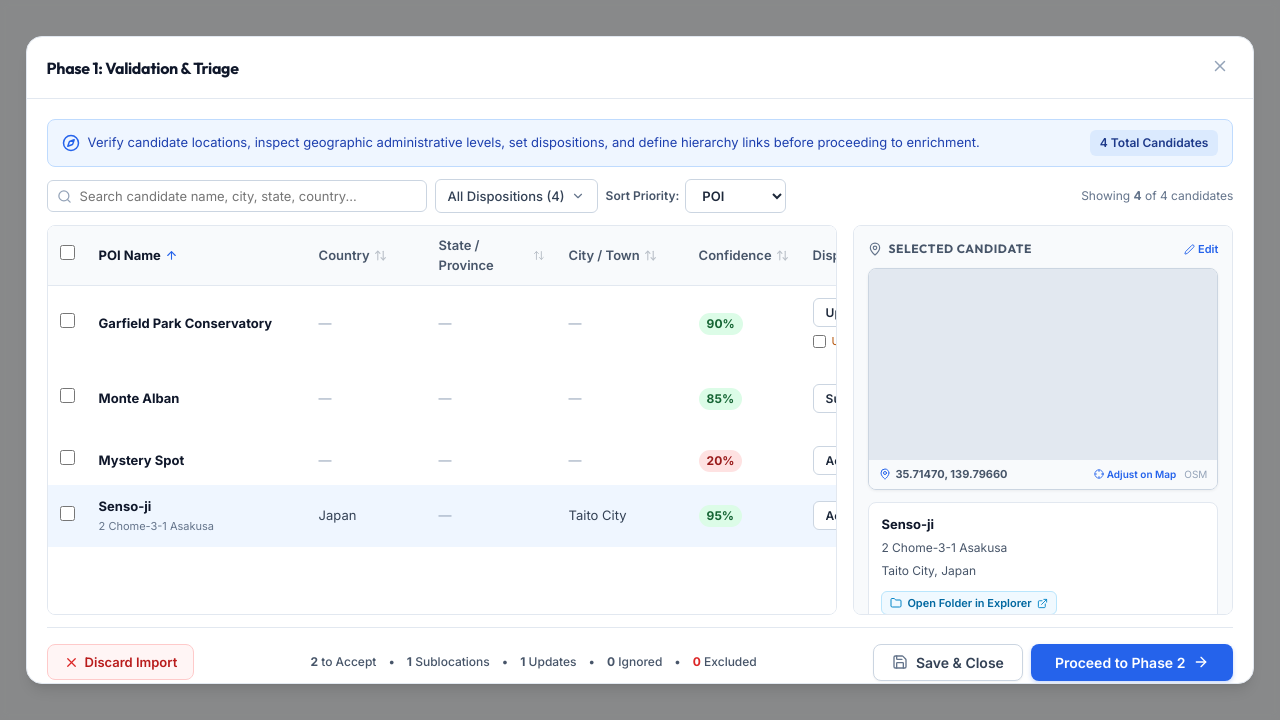
CSVTriageModal (Phase 1) › supports Select All visible candidates checkbox in table header
expect the text "Senso-ji" in the row of "95" is shown: met, box [99,498,151,514]
Note: Select all
Click the checkbox with test id "select-all-candidates-checkbox" at (67, 253), box [60,245,75,260]
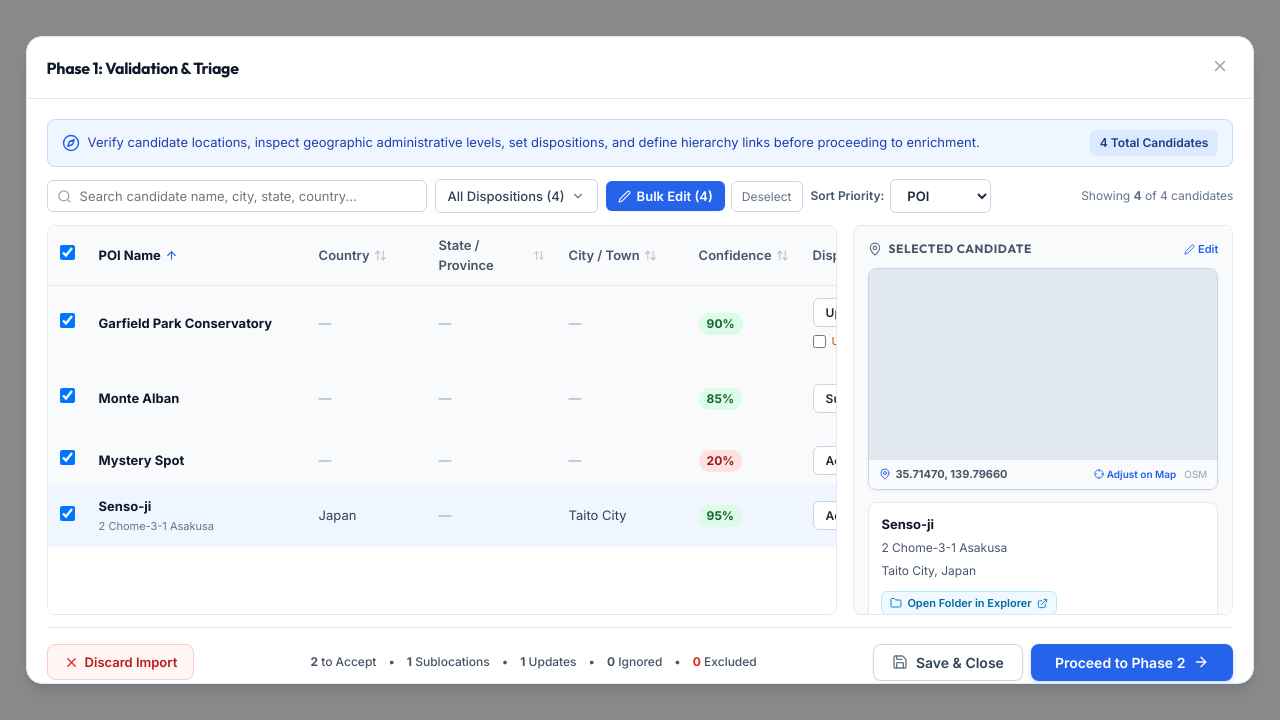
expect the button with test id "bulk-edit-button" reads "Bulk Edit (4)": met, box [606,181,725,211]
Note: Click Deselect button
Click the button with test id "deselect-all-button" at (767, 196), box [731,180,803,212]
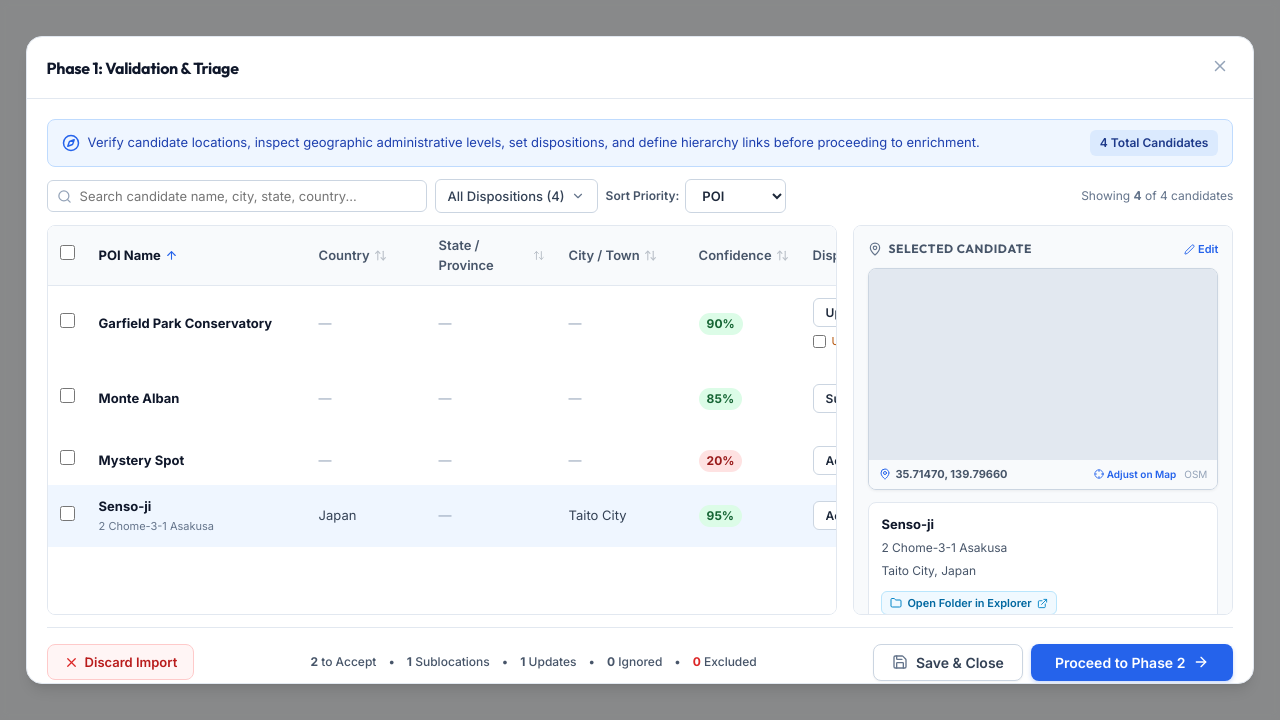
expect the checkbox with test id "select-all-candidates-checkbox" is not checked: met, box [60,245,75,260]
expect the button with test id "bulk-edit-button" is gone: met
